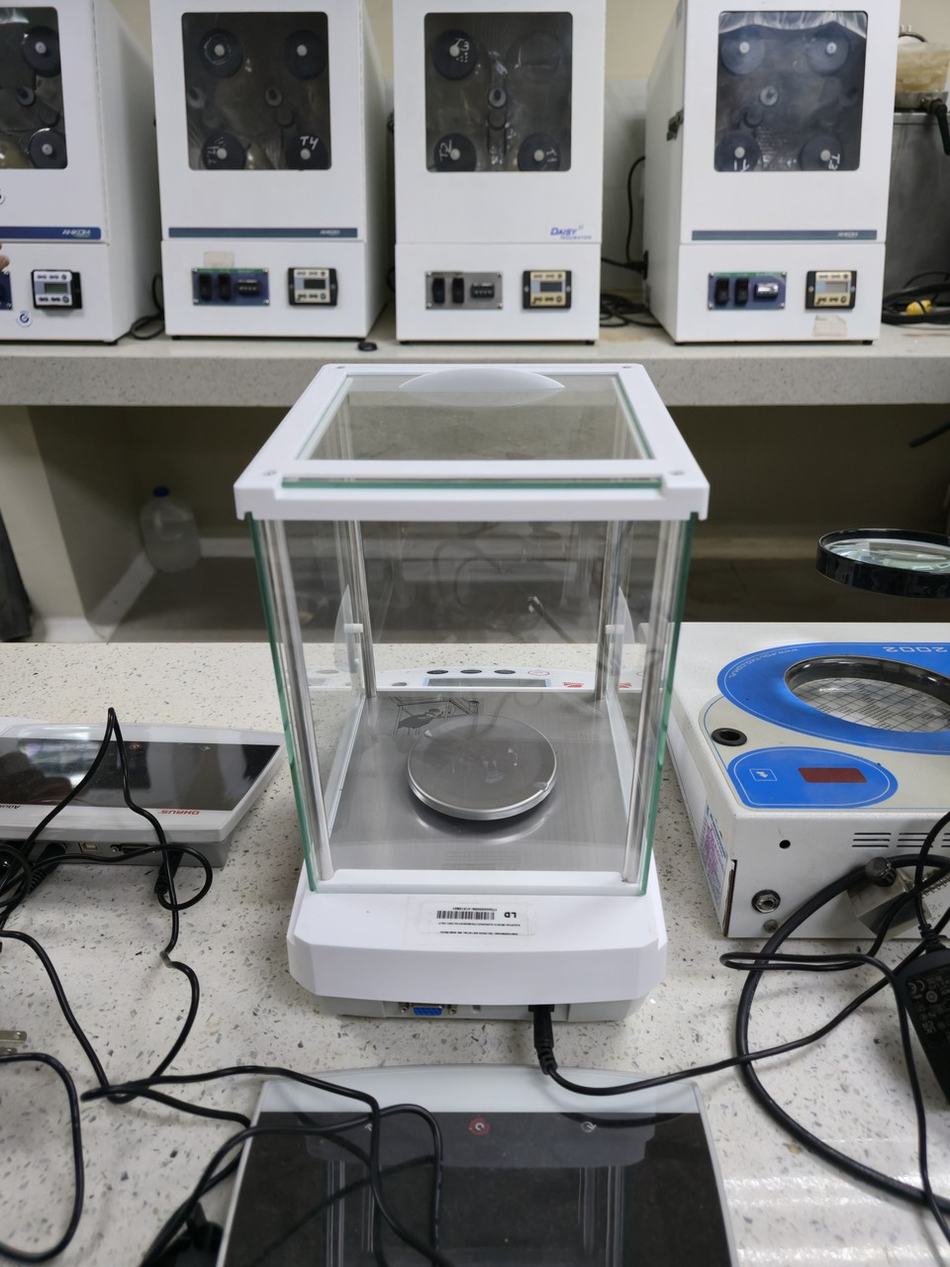ohaus_pr224: (244, 328, 688, 1063)
